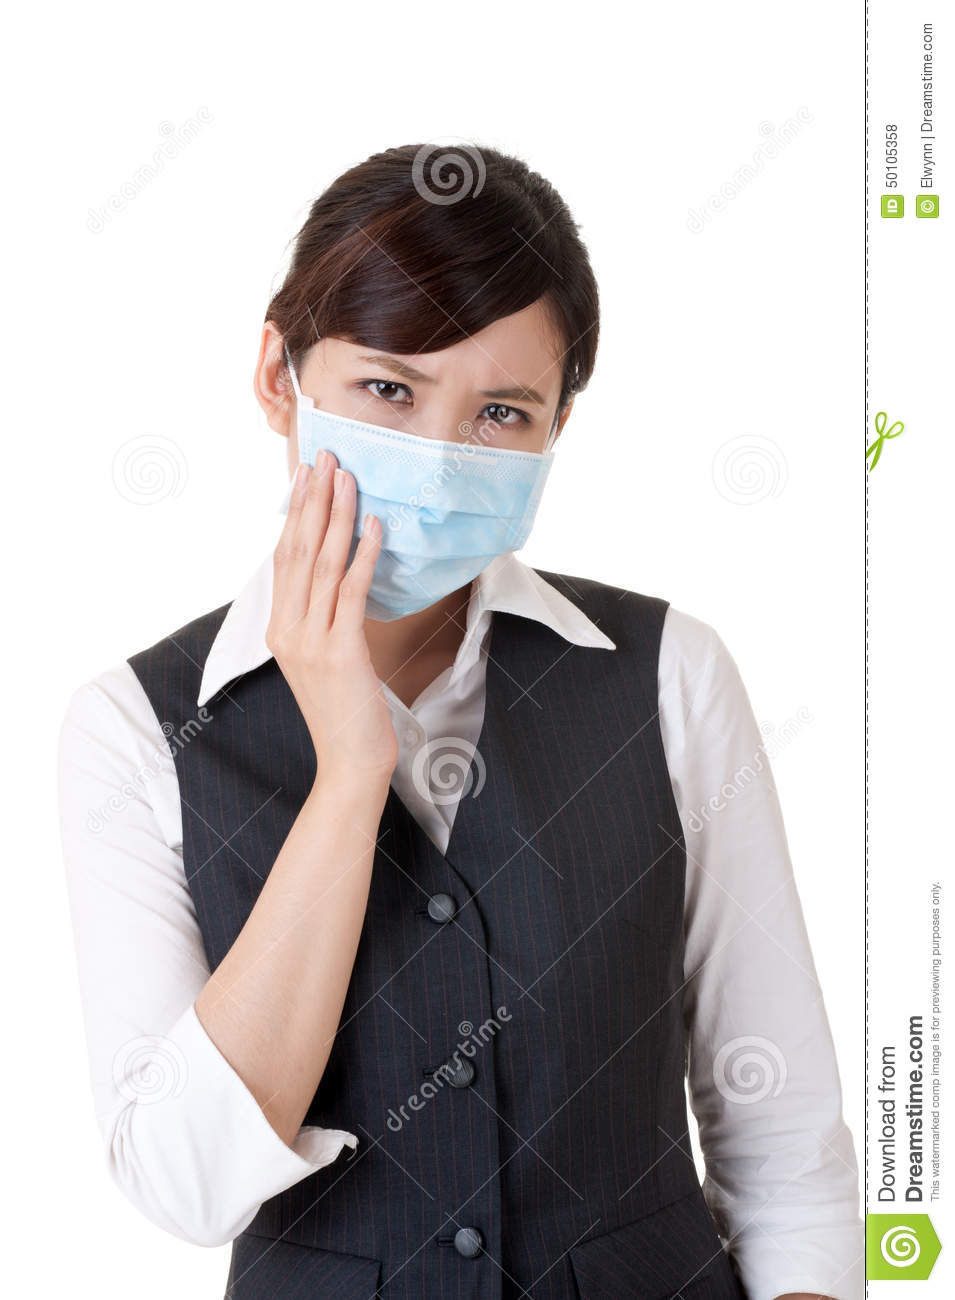mask: (292, 406, 552, 618)
